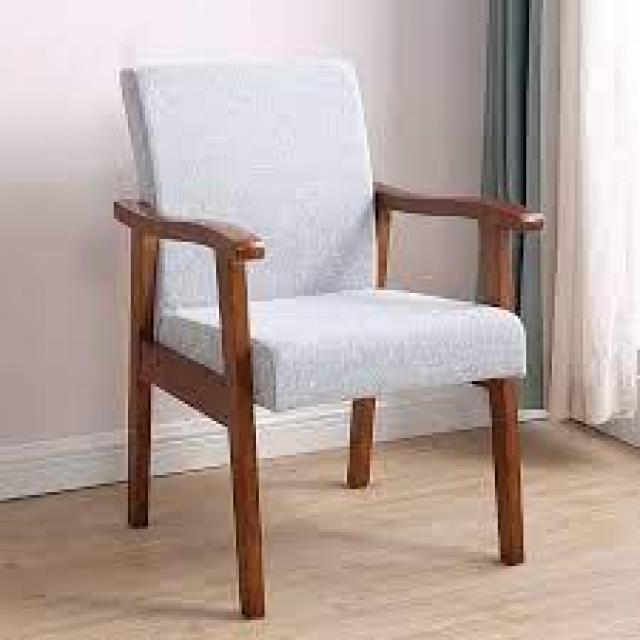chair: (71, 31, 569, 592)
